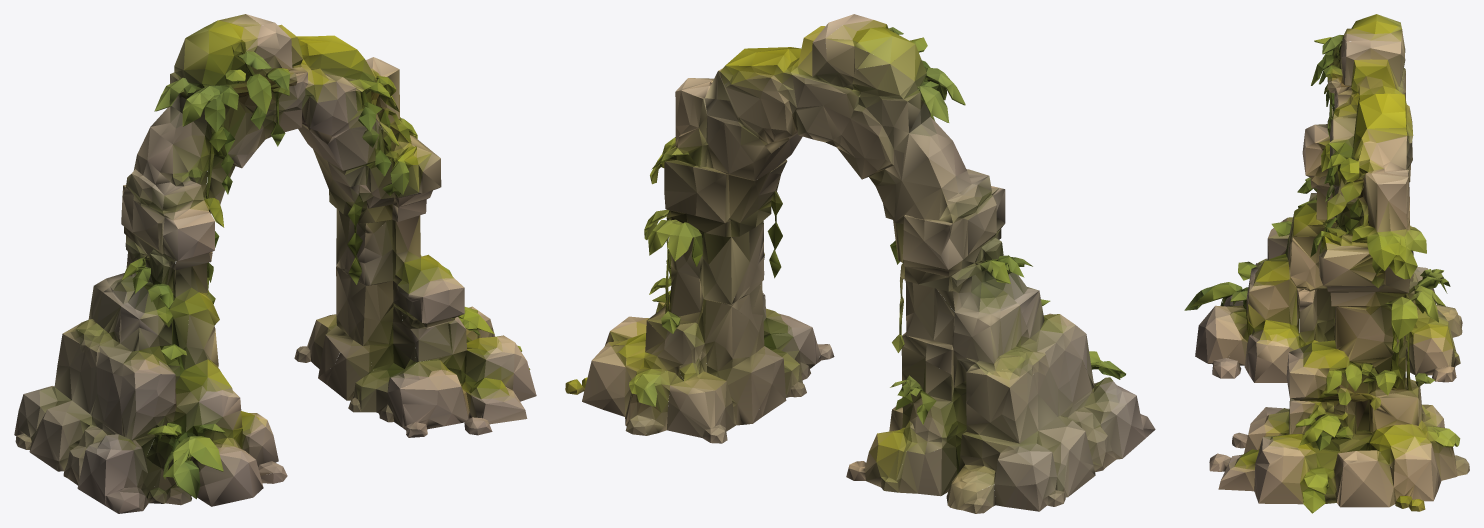
File: building-ruinsGate.glb
3 views of the same model, side by side, from view 1: azimuth 30°, elevation 25°; view 2: azimuth 150°, elevation 25°; view 3: azimuth 270°, elevation 25° (orthographic). The views are drawn at different scales.
Parts seen in each view (by area): view 1: 0_ruinsGate; view 2: 0_ruinsGate; view 3: 0_ruinsGate.
Part boxes in pixels (bbox=[...]): 0_ruinsGate: bbox=[14, 14, 536, 513]; 0_ruinsGate: bbox=[565, 14, 1155, 513]; 0_ruinsGate: bbox=[1184, 14, 1469, 513].
Size of the model in its own units: 5.13 by 4.12 by 2.88.
